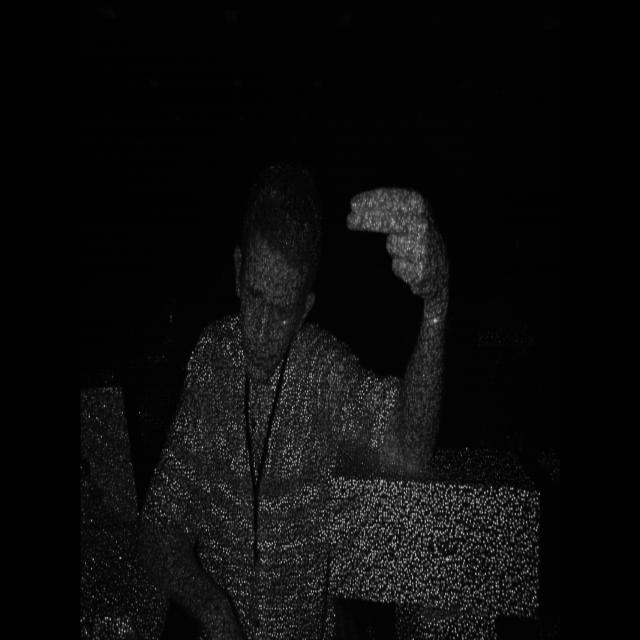H: (337, 180, 460, 326)
